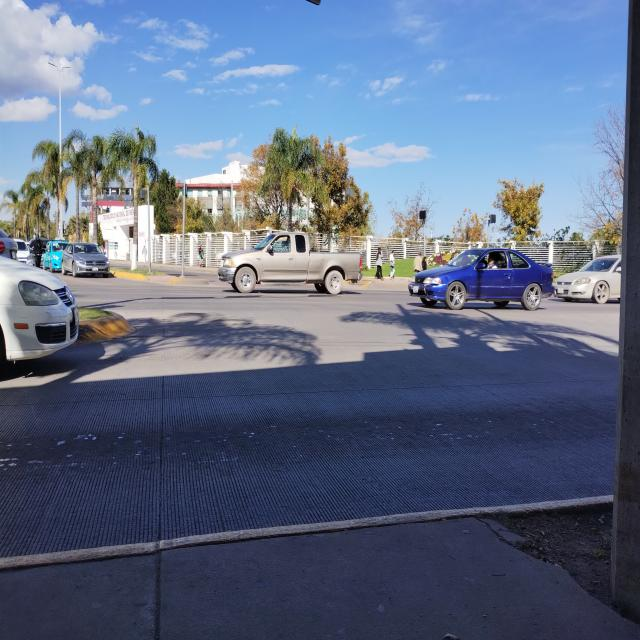Auto: (408, 247, 556, 310), (217, 232, 363, 295), (0, 253, 79, 362), (553, 255, 640, 306), (62, 242, 112, 280), (42, 240, 71, 270), (7, 238, 34, 268), (0, 227, 19, 262)
Peaton: (27, 233, 44, 267), (376, 248, 384, 282), (197, 243, 206, 269), (389, 250, 396, 280), (414, 251, 422, 275), (422, 254, 429, 273)
